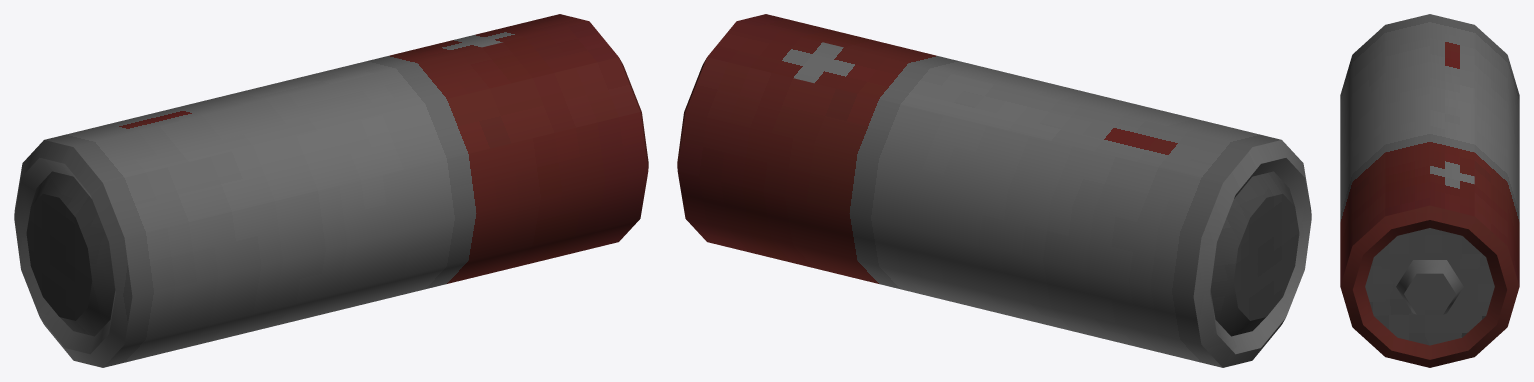
File: battery_mp_1_1.glb
The picture shows the model from 3 angles, left to right: view 1: azimuth 30°, elevation 25°; view 2: azimuth 150°, elevation 25°; view 3: azimuth 270°, elevation 25°; orthographic projection. The views are drawn at different scales.
Parts seen in each view (by area): view 1: battery_mp_1_1; view 2: battery_mp_1_1; view 3: battery_mp_1_1.
Boxes of the visible parts, x1,y1,x2,y2 form: battery_mp_1_1: (14, 14, 648, 367); battery_mp_1_1: (677, 14, 1311, 367); battery_mp_1_1: (1340, 14, 1519, 367).
Bounding box in the file's own units: 0.097 × 0.036 × 0.036.
1 material, 1 textured.
